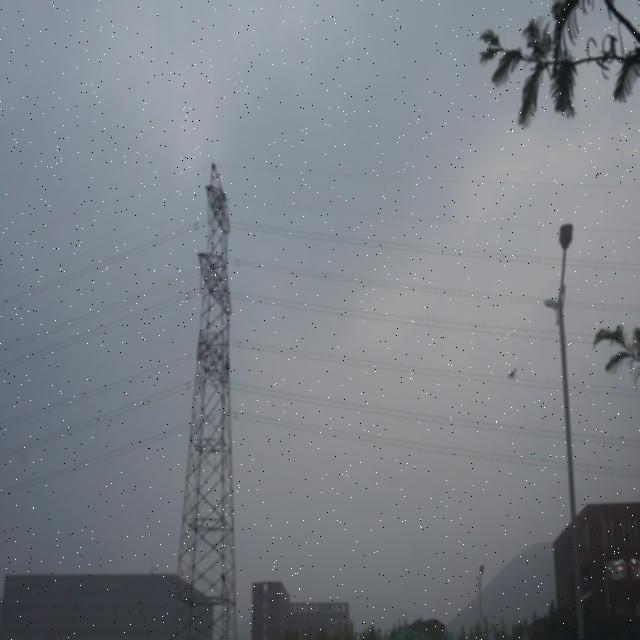UAV: (507, 366, 517, 379)
